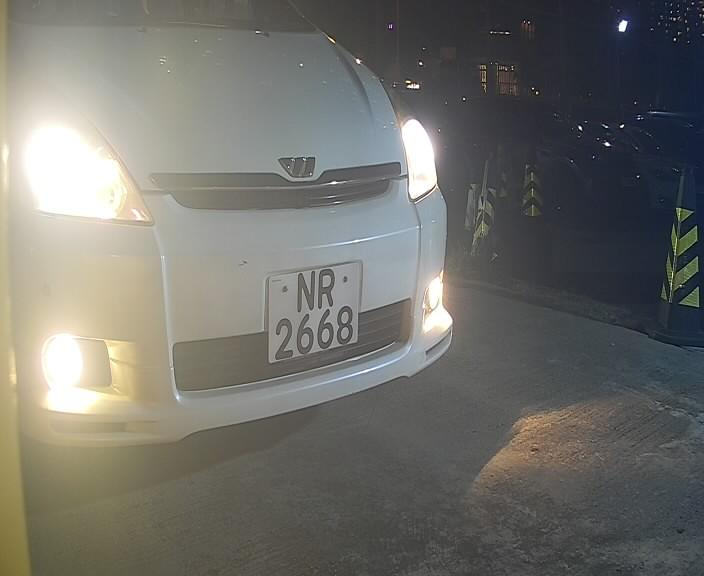Car: (4, 16, 529, 505)
License Plate: (258, 247, 368, 376)
